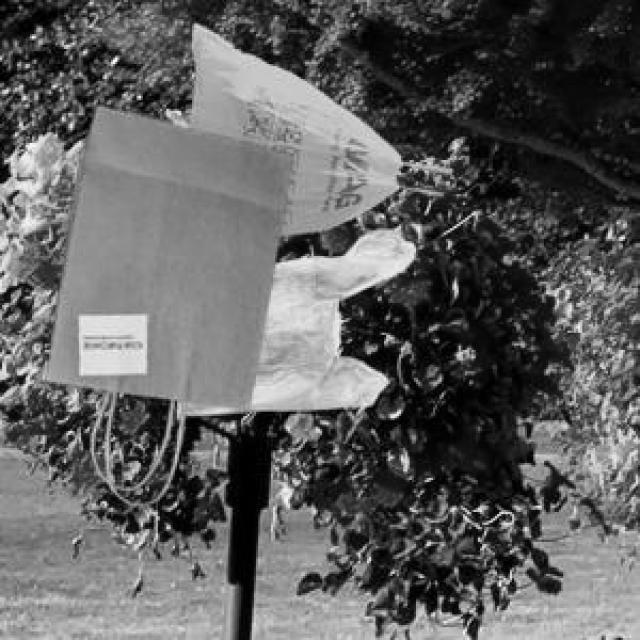paper: (43, 102, 288, 489)
